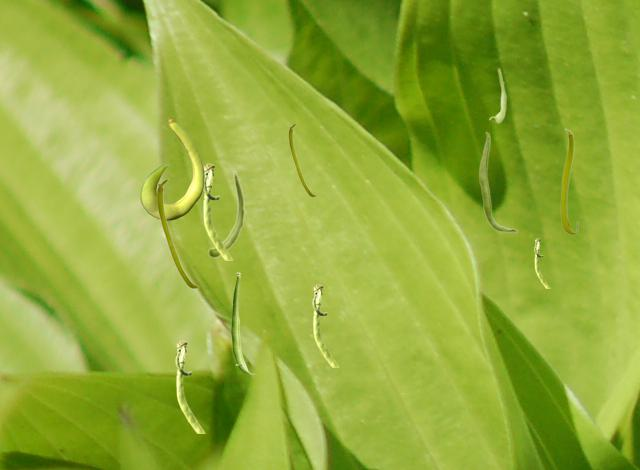french_bean: (140, 118, 203, 219), (156, 178, 198, 288), (478, 131, 517, 232), (207, 170, 244, 257), (203, 163, 232, 259), (175, 340, 204, 432), (231, 272, 254, 373), (312, 284, 338, 366), (288, 123, 315, 196), (560, 128, 577, 234), (489, 68, 505, 122), (534, 238, 549, 287)
